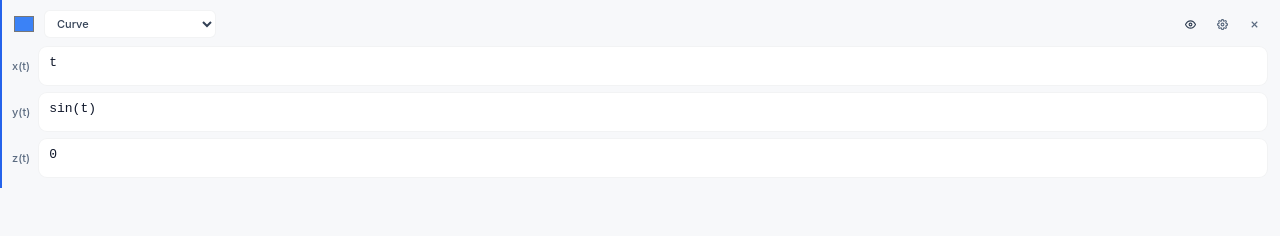
Test: ExpressionRow math input diagnostics + debounce › shows inline diagnostics for invalid parametric x drafts and does not commit
Replace the text in the field named "Parametric x expression" with "factorial(t)" at (636, 63), box [49,47,1223,79]
Wait 450 ms
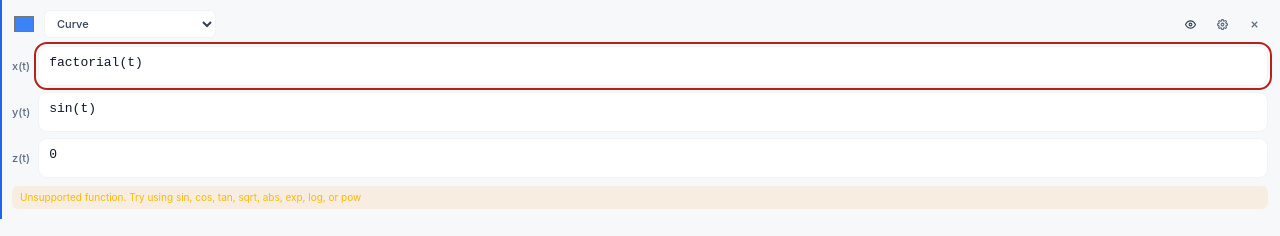
Expected: the message with test id "expression-diagnostic" shows "Unsupported function", [20,191,126,203]
